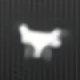plane: (15, 21, 71, 62)
